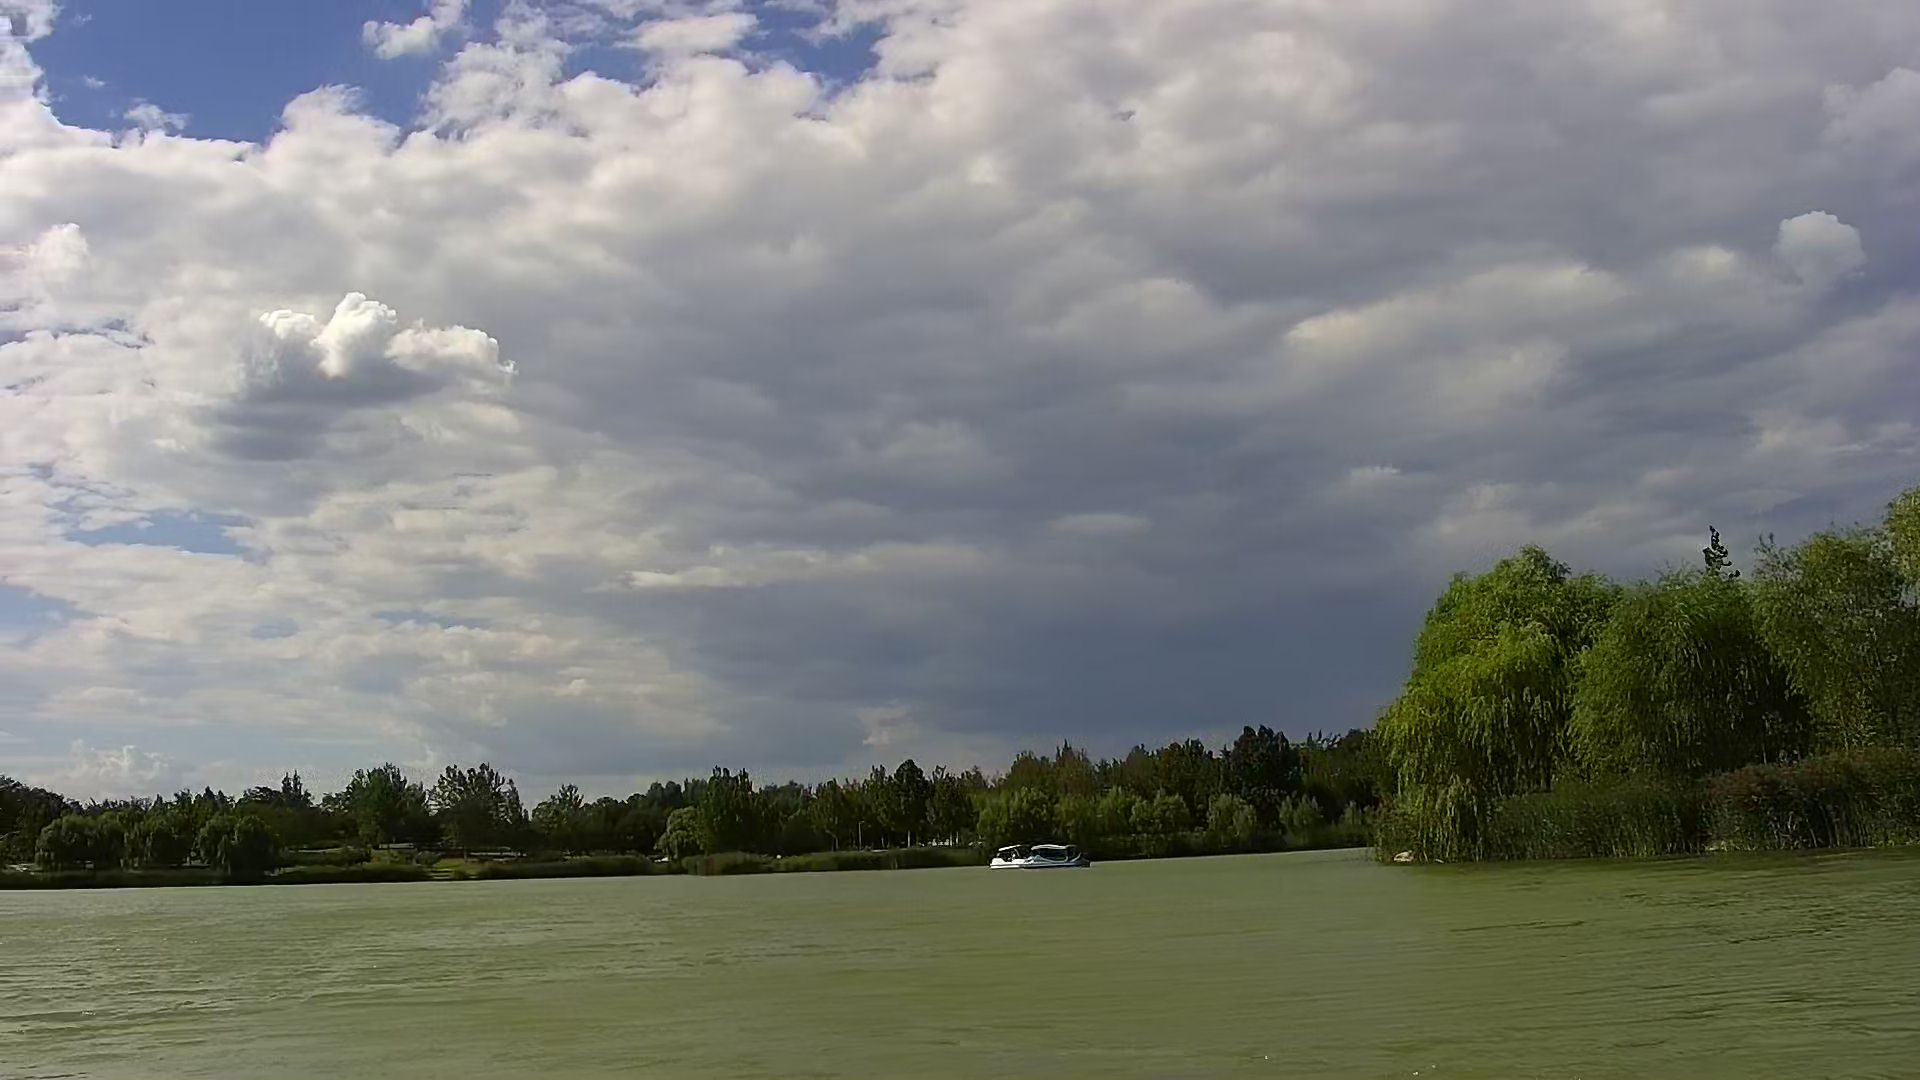boat: (1025, 847, 1095, 870), (986, 843, 1044, 870)
rock: (1393, 849, 1423, 868)
